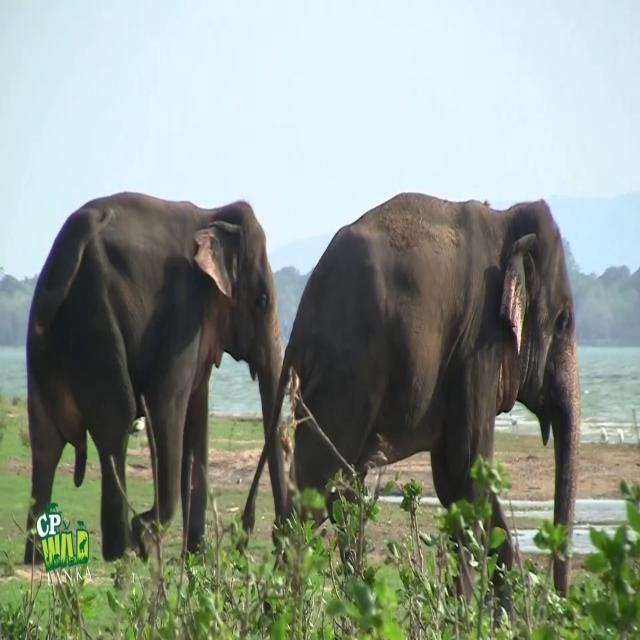Elephant: (238, 190, 580, 627), (23, 190, 290, 571)
